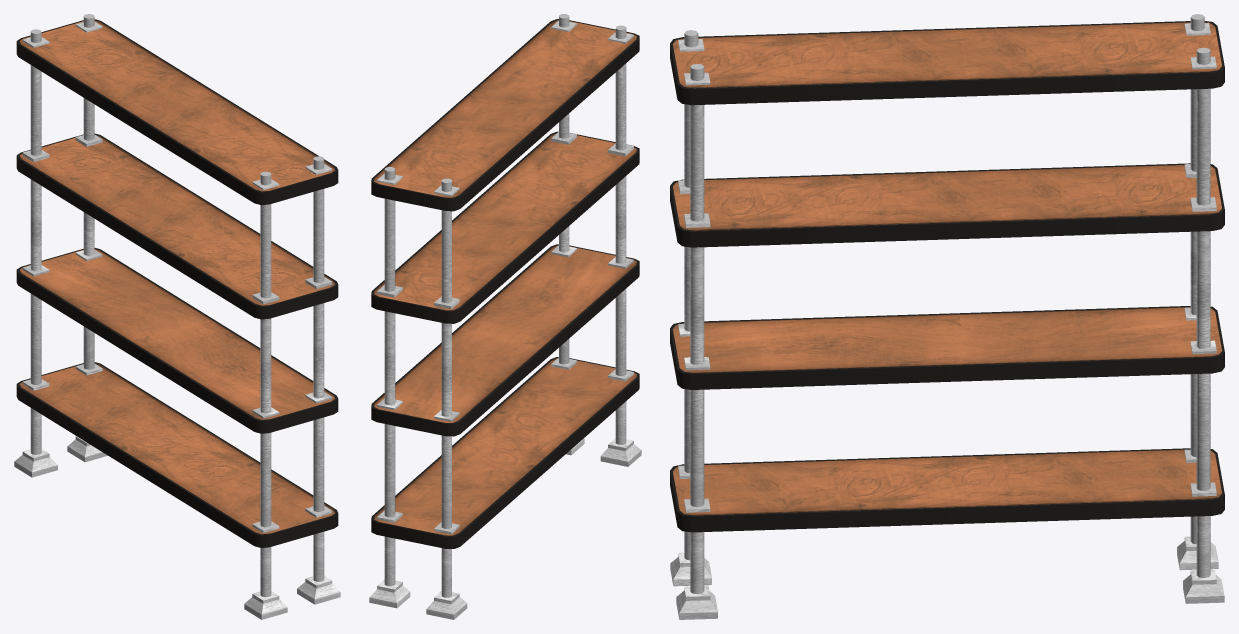
File: Medium Shelf.fbx
3 views of the same model, side by side, from view 1: azimuth 30°, elevation 25°; view 2: azimuth 150°, elevation 25°; view 3: azimuth 270°, elevation 25° (orthographic). The views are drawn at different scales.
Visible parts, largest first — view 1: Medium Shelf, Medium Shelf.001; view 2: Medium Shelf, Medium Shelf.001; view 3: Medium Shelf, Medium Shelf.001.
Boxes of the visible parts, box(x1,y1,x2,y2) form: Medium Shelf: box(16, 19, 338, 547); Medium Shelf.001: box(14, 14, 340, 619); Medium Shelf: box(371, 19, 639, 548); Medium Shelf.001: box(369, 14, 641, 619); Medium Shelf: box(670, 21, 1224, 532); Medium Shelf.001: box(670, 14, 1224, 619).
Size of the model in its own units: 50.34 by 185 by 171.
